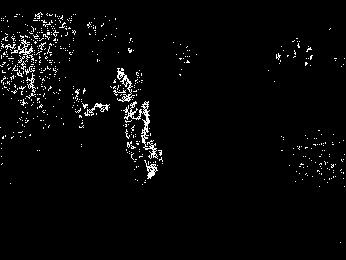person: (123, 104, 163, 183), (111, 68, 132, 102)
